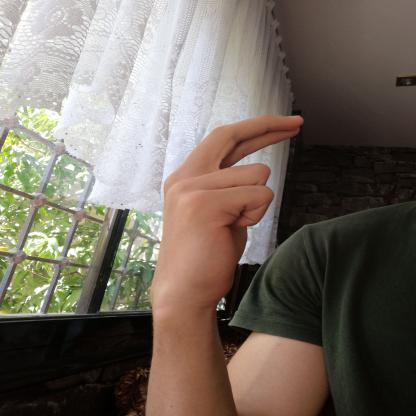ZAY: (141, 105, 314, 322)
